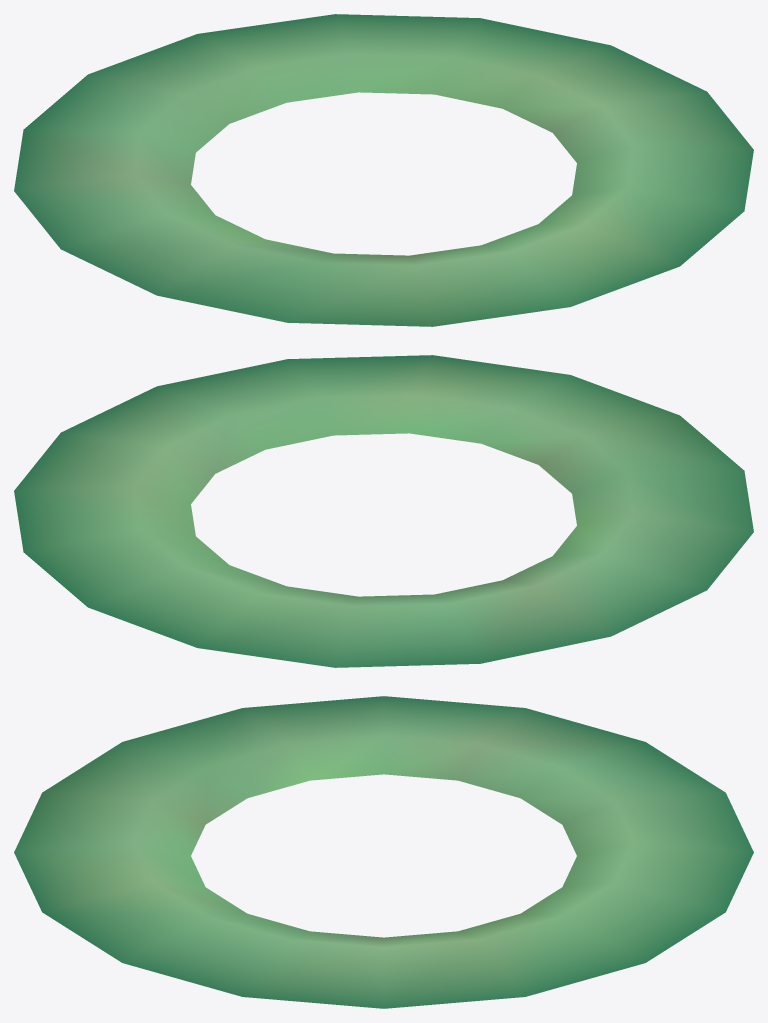
Rendered from space-galaxies-ring-galaxy_v6.glb.
3 views of the same model, one above another, from view 1: azimuth 30°, elevation 25°; view 2: azimuth 150°, elevation 25°; view 3: azimuth 270°, elevation 25° (orthographic).
Visible parts, largest first — view 1: Ring Galaxy_v6; view 2: Ring Galaxy_v6; view 3: Ring Galaxy_v6.
Part boxes in pixels (box(x1,y1,x2,y2)): Ring Galaxy_v6: box(14, 14, 753, 326); Ring Galaxy_v6: box(14, 355, 753, 667); Ring Galaxy_v6: box(14, 696, 753, 1008).
Size of the model in its own units: 0.5 by 0.0175 by 0.5.
